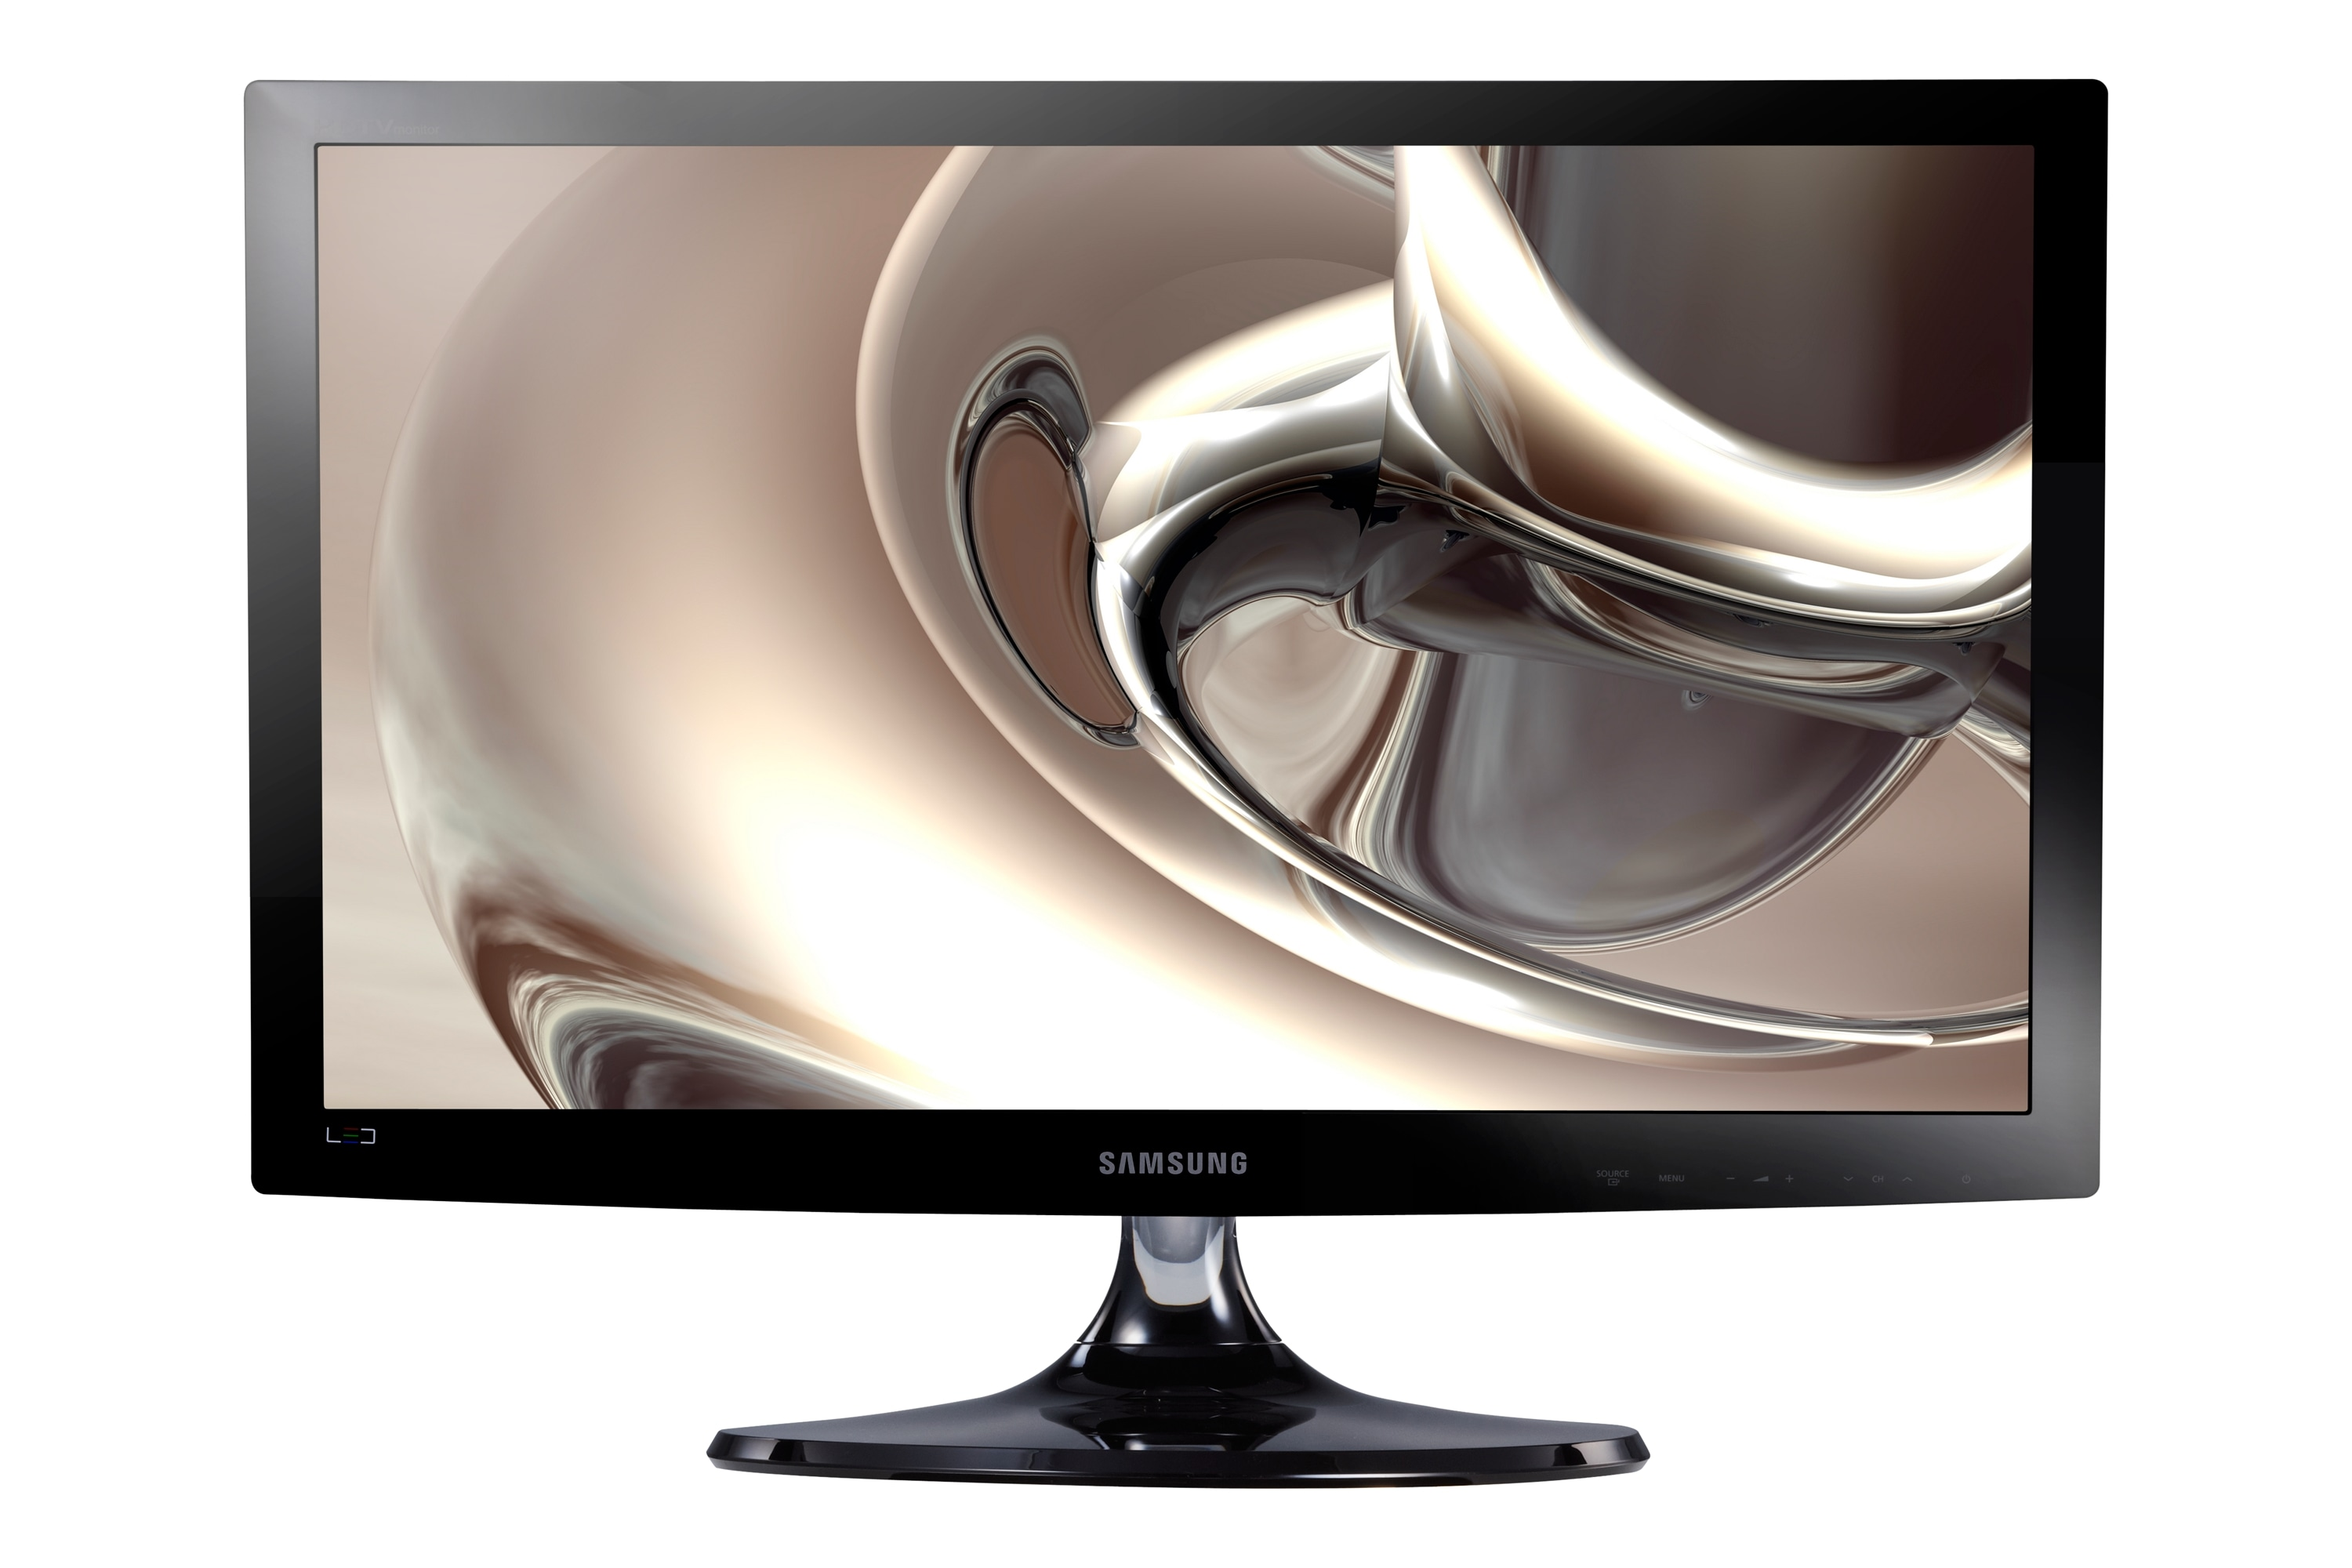tvmonitor: (240, 75, 2119, 1486)
